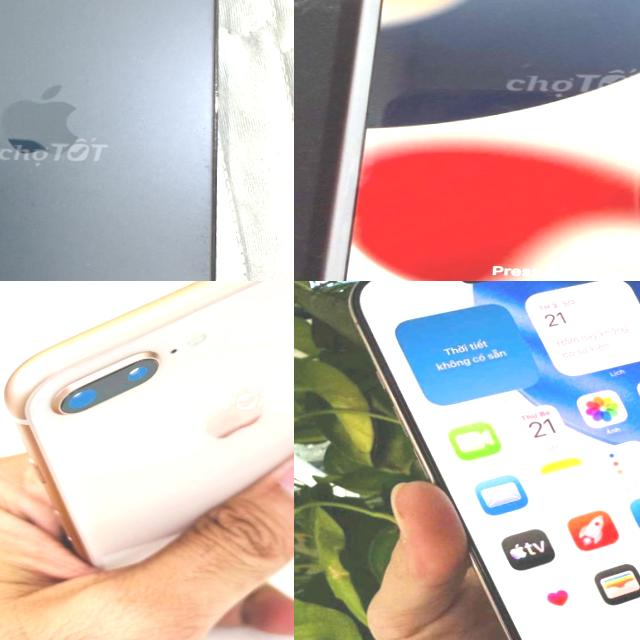gen_12_13: (0, 0, 246, 281)
gen_16: (319, 281, 640, 640)
gen_7_8: (314, 0, 640, 281), (0, 281, 294, 578)
